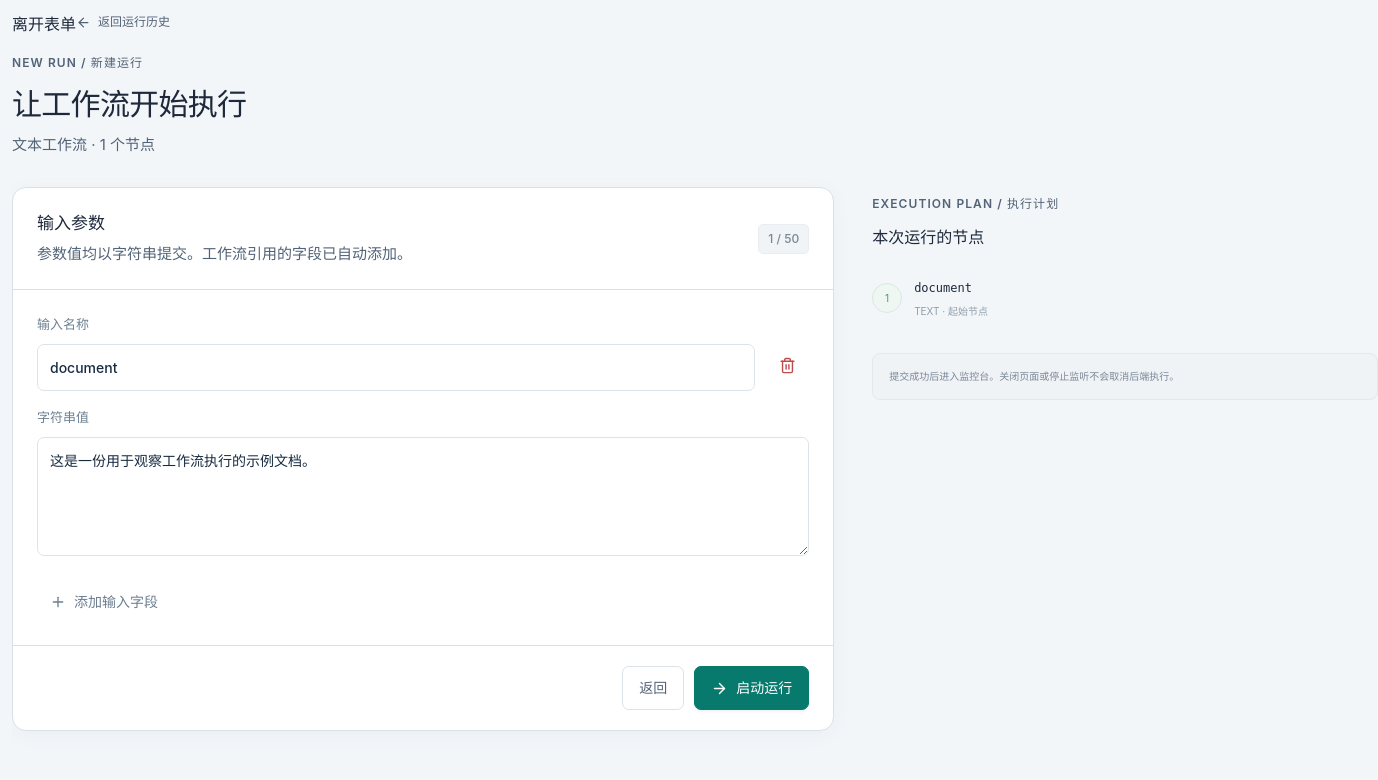
it: 新运行交互 › 离开页面后的创建响应不会改变当前路由
The image size is (1378, 780).
Expected: the text box named "输入值 1" is shown, x1=37 y1=437 x2=809 y2=556
Step 1. Click the button "启动运行" → [752, 688], box x1=694 y1=666 x2=809 y2=710
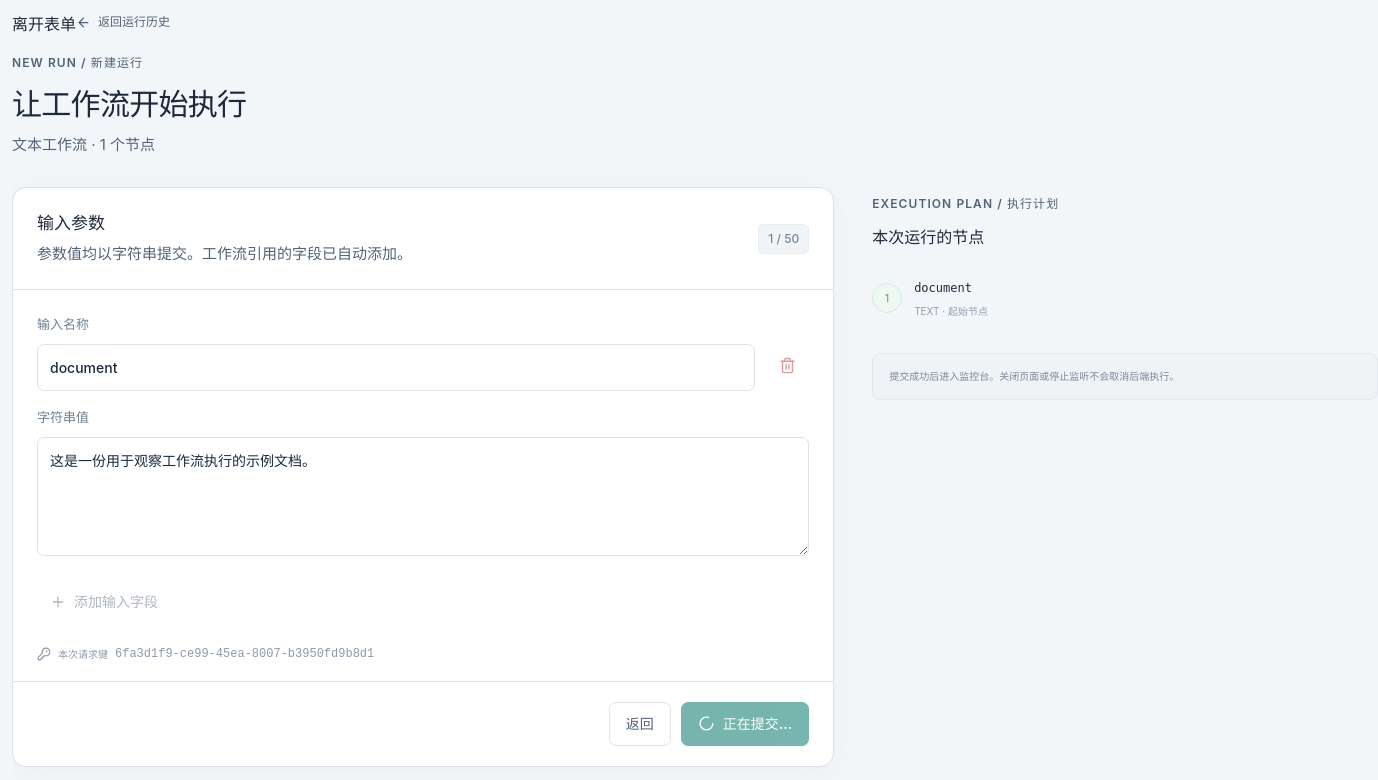
Now the button "正在提交…" is shown, box x1=681 y1=702 x2=809 y2=746
Step 2. Click the link "离开表单" → [44, 24], box x1=12 y1=14 x2=76 y2=34
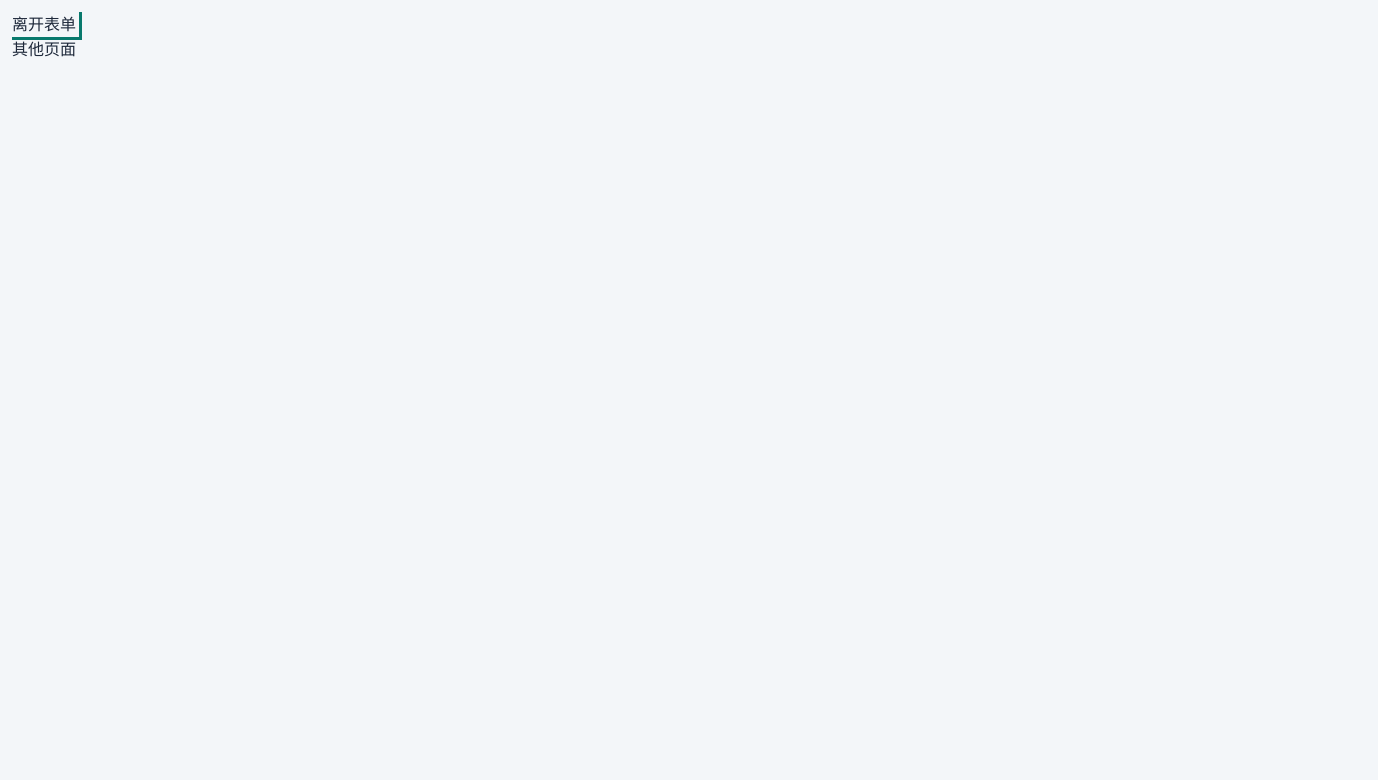
Now the text "其他页面" is shown, box x1=12 y1=39 x2=76 y2=59
